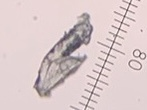microplastic: (33, 13, 93, 99)
